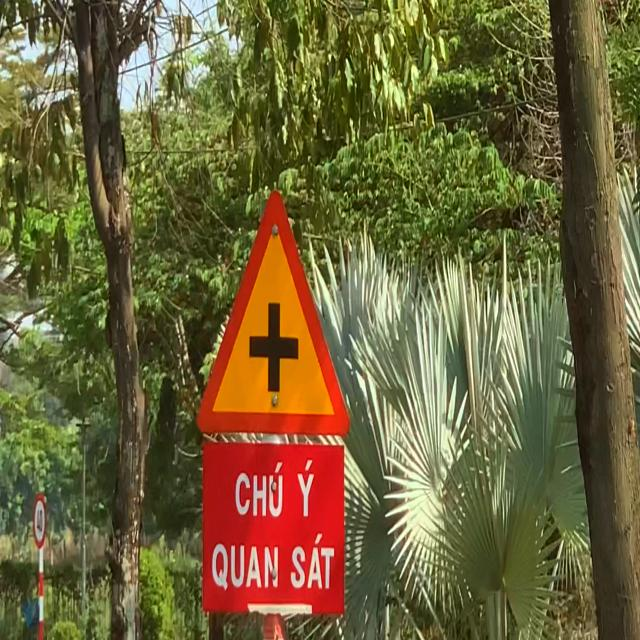Duong giao nhau: (188, 173, 354, 449)
Toc do toi da: (32, 493, 46, 548)
